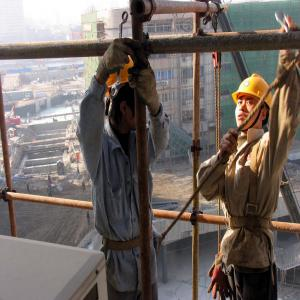yellow: (105, 57, 147, 131), (232, 73, 273, 135)
